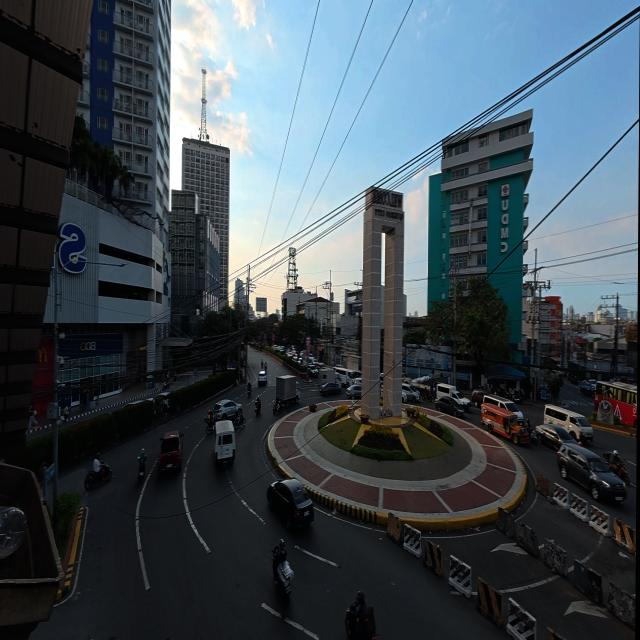Jeepneys: (481, 403, 529, 445), (481, 404, 529, 444)
bus: (594, 382, 636, 429)
car: (557, 444, 625, 502), (266, 479, 313, 530), (483, 395, 523, 425), (157, 431, 182, 474), (535, 425, 577, 450), (214, 421, 234, 467), (434, 397, 464, 417), (212, 400, 240, 419), (401, 383, 419, 403), (122, 398, 153, 408), (319, 383, 340, 396), (470, 389, 483, 408), (157, 392, 169, 411), (345, 384, 360, 399), (258, 370, 268, 386), (307, 366, 317, 377), (568, 376, 577, 384), (315, 362, 323, 369)
motorcycle: (345, 603, 379, 640), (83, 462, 111, 491), (603, 453, 628, 485), (276, 560, 292, 599), (137, 459, 145, 483), (527, 427, 538, 444), (509, 389, 522, 403), (419, 387, 432, 401), (204, 417, 214, 434), (234, 416, 245, 430), (272, 401, 281, 414), (254, 402, 260, 416), (161, 379, 168, 390), (248, 384, 252, 398)
trucks: (273, 376, 299, 412), (317, 368, 334, 387)
vans: (543, 405, 592, 442), (483, 394, 523, 425), (434, 384, 470, 411), (435, 384, 470, 411), (214, 421, 234, 467), (334, 366, 360, 388), (401, 383, 419, 403)
